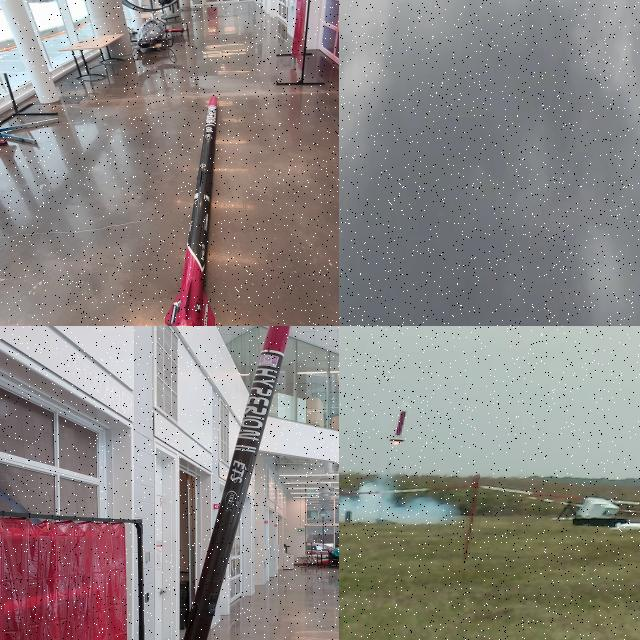Rocket: (183, 326, 291, 640), (164, 94, 218, 326), (389, 402, 409, 442)
